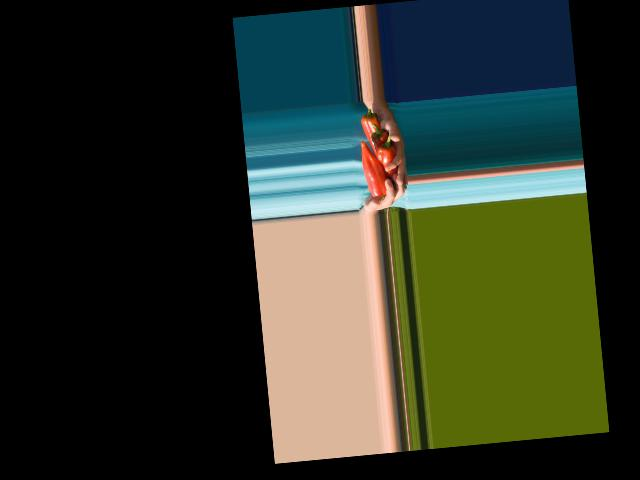bell_pepper: (360, 107, 383, 146)
